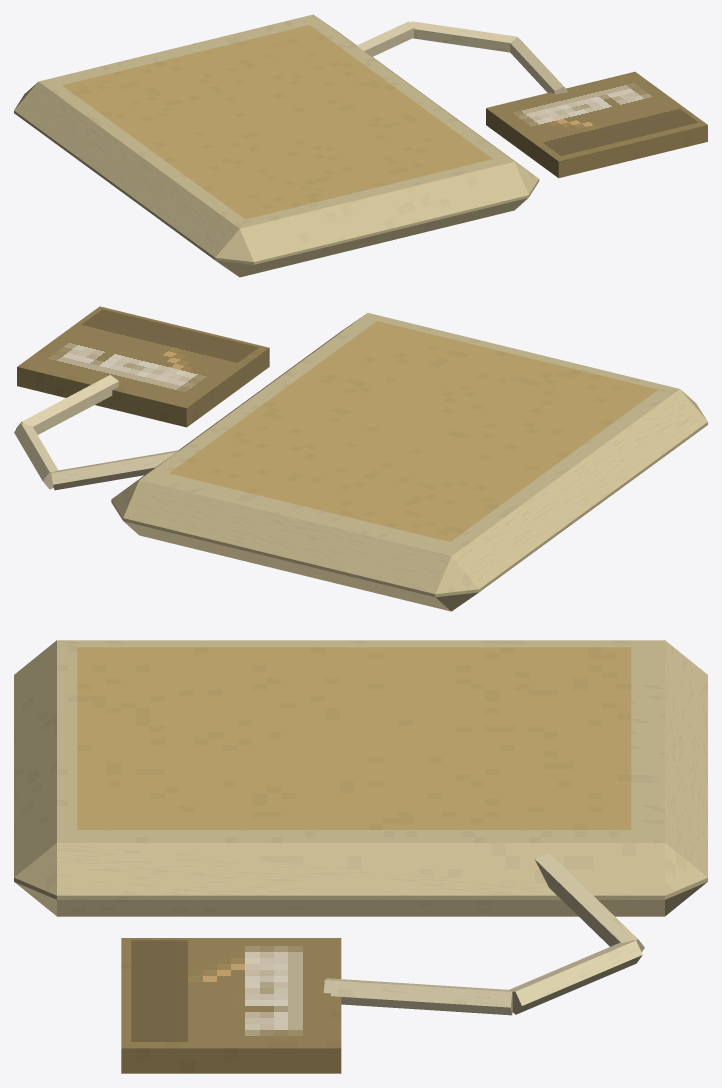
The model's file is tea_bag_dandelion.glb.
The picture shows the model from 3 angles, top to bottom: view 1: azimuth 30°, elevation 25°; view 2: azimuth 150°, elevation 25°; view 3: azimuth 270°, elevation 25°; orthographic projection. The views are drawn at different scales.
Parts seen in each view (by area): view 1: block_tea fines visible through paper, block_porous paper sachet, block_printed tag, block_tag, block_cotton string 1, block_cotton string 2, block_cotton string 0; view 2: block_tea fines visible through paper, block_porous paper sachet, block_printed tag, block_tag, block_cotton string 0, block_cotton string 2, block_cotton string 1; view 3: block_tea fines visible through paper, block_porous paper sachet, block_printed tag, block_tag, block_cotton string 2, block_cotton string 1, block_cotton string 0.
Boxes of the visible parts, x1=… form: block_tea fines visible through paper: x1=62, y1=25, x2=492, y2=219; block_porous paper sachet: x1=14, y1=14, x2=539, y2=277; block_printed tag: x1=495, y1=74, x2=698, y2=155; block_tag: x1=486, y1=71, x2=707, y2=178; block_cotton string 1: x1=411, y1=21, x2=516, y2=52; block_cotton string 2: x1=510, y1=37, x2=568, y2=94; block_cotton string 0: x1=356, y1=21, x2=414, y2=56; block_tea fines visible through paper: x1=169, y1=321, x2=657, y2=541; block_porous paper sachet: x1=111, y1=313, x2=707, y2=611; block_printed tag: x1=28, y1=309, x2=258, y2=402; block_tag: x1=17, y1=306, x2=269, y2=427; block_cotton string 0: x1=51, y1=450, x2=179, y2=490; block_cotton string 2: x1=16, y1=375, x2=118, y2=434; block_cotton string 1: x1=14, y1=423, x2=58, y2=489; block_tea fines visible through paper: x1=77, y1=647, x2=631, y2=829; block_porous paper sachet: x1=14, y1=640, x2=707, y2=916; block_printed tag: x1=131, y1=940, x2=330, y2=1041; block_tag: x1=121, y1=938, x2=341, y2=1073; block_cotton string 2: x1=323, y1=978, x2=512, y2=1015; block_cotton string 1: x1=509, y1=940, x2=642, y2=1014; block_cotton string 0: x1=534, y1=853, x2=644, y2=951.
Bounding box in the file's own units: 0.0411 × 0.00383 × 0.0318.
Materials: 1 (1 with a texture image).
